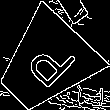P_SW: (14, 34, 76, 95)
